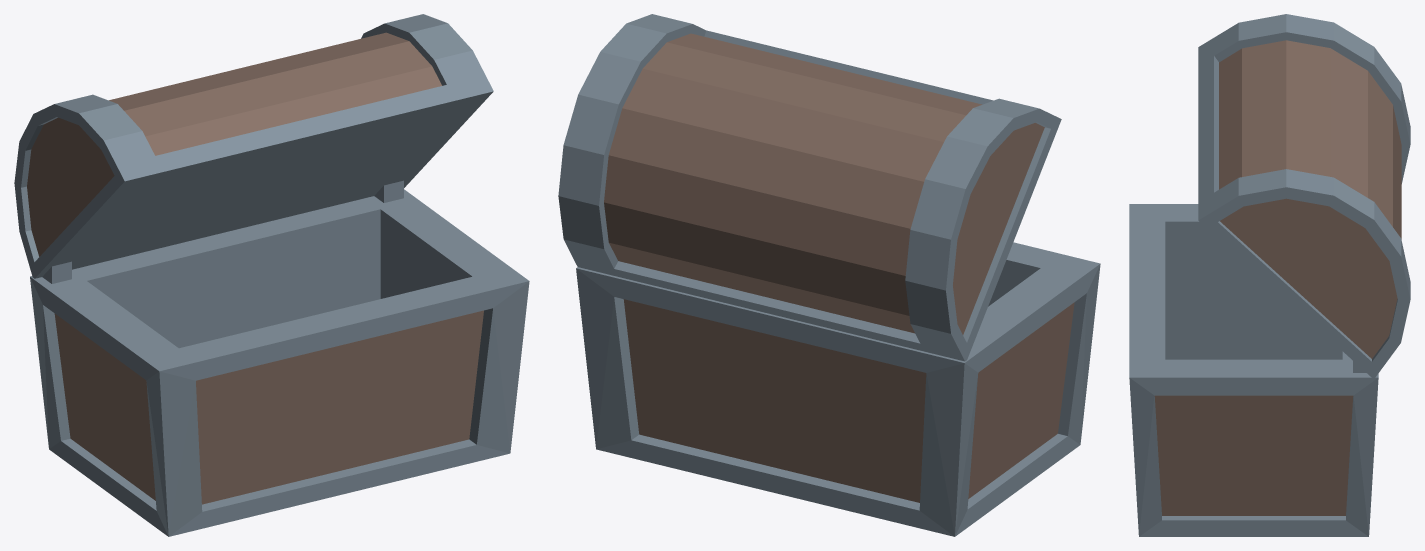
File: ChestOuvert.obj
The picture shows the model from 3 angles, left to right: view 1: azimuth 30°, elevation 25°; view 2: azimuth 150°, elevation 25°; view 3: azimuth 270°, elevation 25°; orthographic projection. The views are drawn at different scales.
Parts seen in each view (by area): view 1: Cube.283, Cylinder.092; view 2: Cylinder.092, Cube.283; view 3: Cube.283, Cylinder.092.
Part boxes in pixels (x1,y1,x2,y2): Cube.283: (30, 189, 529, 536); Cylinder.092: (14, 14, 493, 278); Cylinder.092: (558, 14, 1061, 361); Cube.283: (576, 242, 1100, 536); Cube.283: (1129, 204, 1378, 536); Cylinder.092: (1198, 14, 1410, 379).
Size of the model in its own units: 1.89 by 1.81 by 1.29.
1 material, 1 textured.
